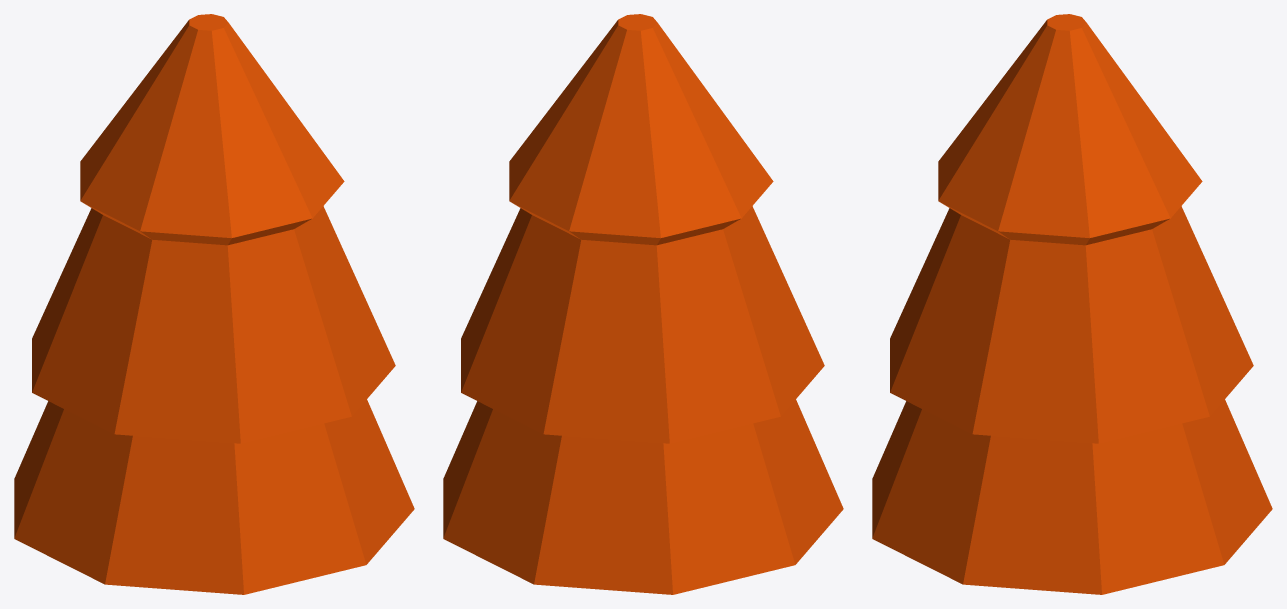
The model's file is tree-autumn-leaves-001.glb.
3 views of the same model, side by side, from view 1: azimuth 30°, elevation 25°; view 2: azimuth 150°, elevation 25°; view 3: azimuth 270°, elevation 25° (orthographic).
Visible parts, largest first — view 1: Circle.030_322; view 2: Circle.030_322; view 3: Circle.030_322.
Boxes of the visible parts, x1,y1,x2,y2 form: Circle.030_322: (14, 14, 414, 594); Circle.030_322: (443, 14, 843, 594); Circle.030_322: (872, 14, 1272, 594).
Bounding box in the file's own units: 0.6484 × 0.8559 × 0.6386.
